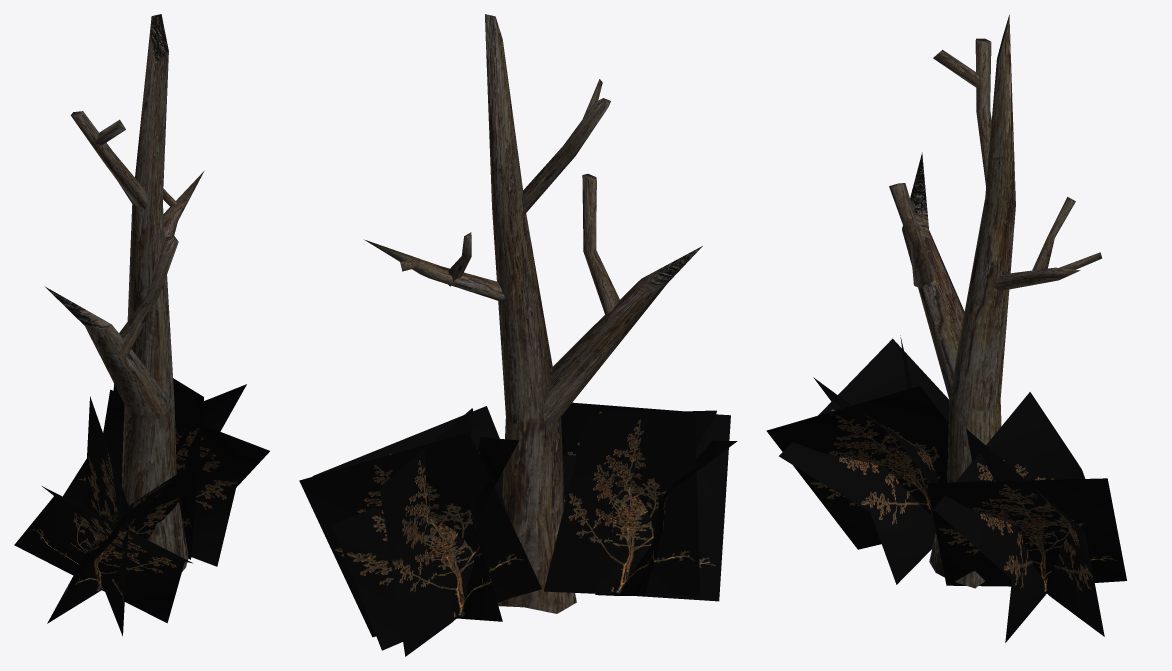
File: deadtree1.dae
The picture shows the model from 3 angles, left to right: view 1: azimuth 30°, elevation 25°; view 2: azimuth 150°, elevation 25°; view 3: azimuth 270°, elevation 25°; orthographic projection. The views are drawn at different scales.
Parts seen in each view (by area): view 1: Circle.001; view 2: Circle.001; view 3: Circle.001.
Boxes of the visible parts, <box> form: Circle.001: <box>14,14,269,636</box>; Circle.001: <box>299,14,737,656</box>; Circle.001: <box>766,14,1126,642</box>.
Bounding box in the file's own units: 3.19 × 3.41 × 5.76.
Materials: 2 (2 with a texture image).
